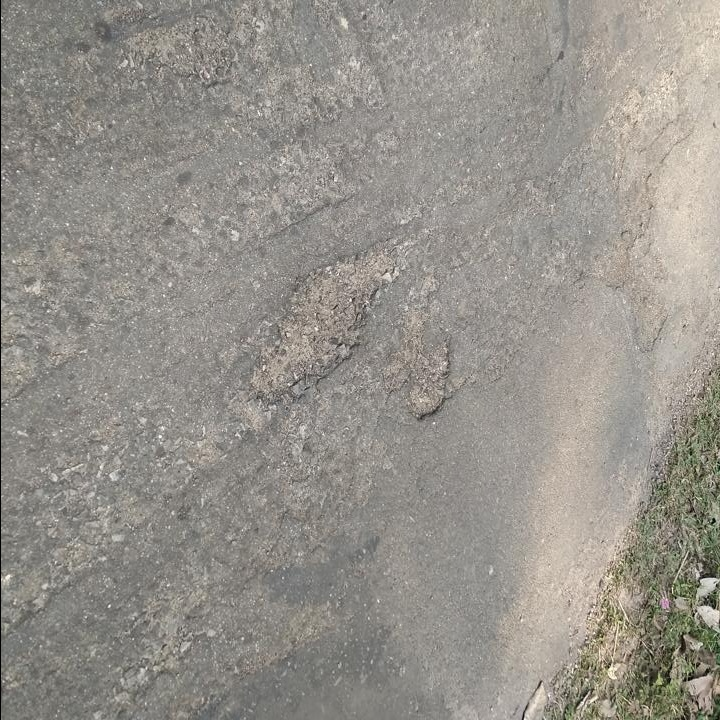pothole: (251, 236, 404, 402), (125, 10, 233, 92), (401, 335, 456, 424)
